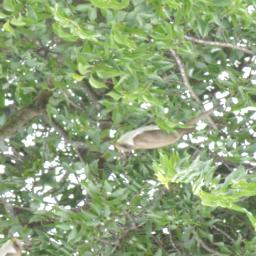Cuckoo: (103, 71, 229, 177)
